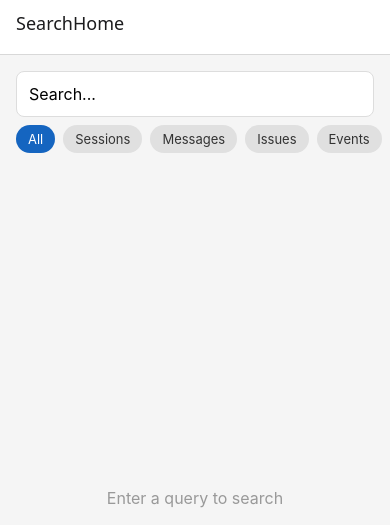
Test case: SearchScreen › renders result cards when API returns results
Step 1. Type "found" into the field with test id "search-input" → (195, 94), box [16, 71, 374, 117]
Wait 400 ms
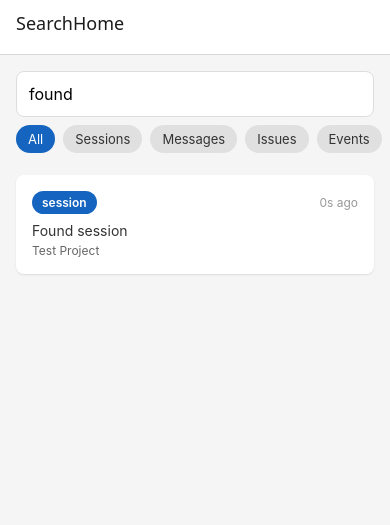
Check: the text "Found session" is shown, box [32, 222, 128, 239]
Check: the text "session" is shown, box [42, 195, 87, 210]
